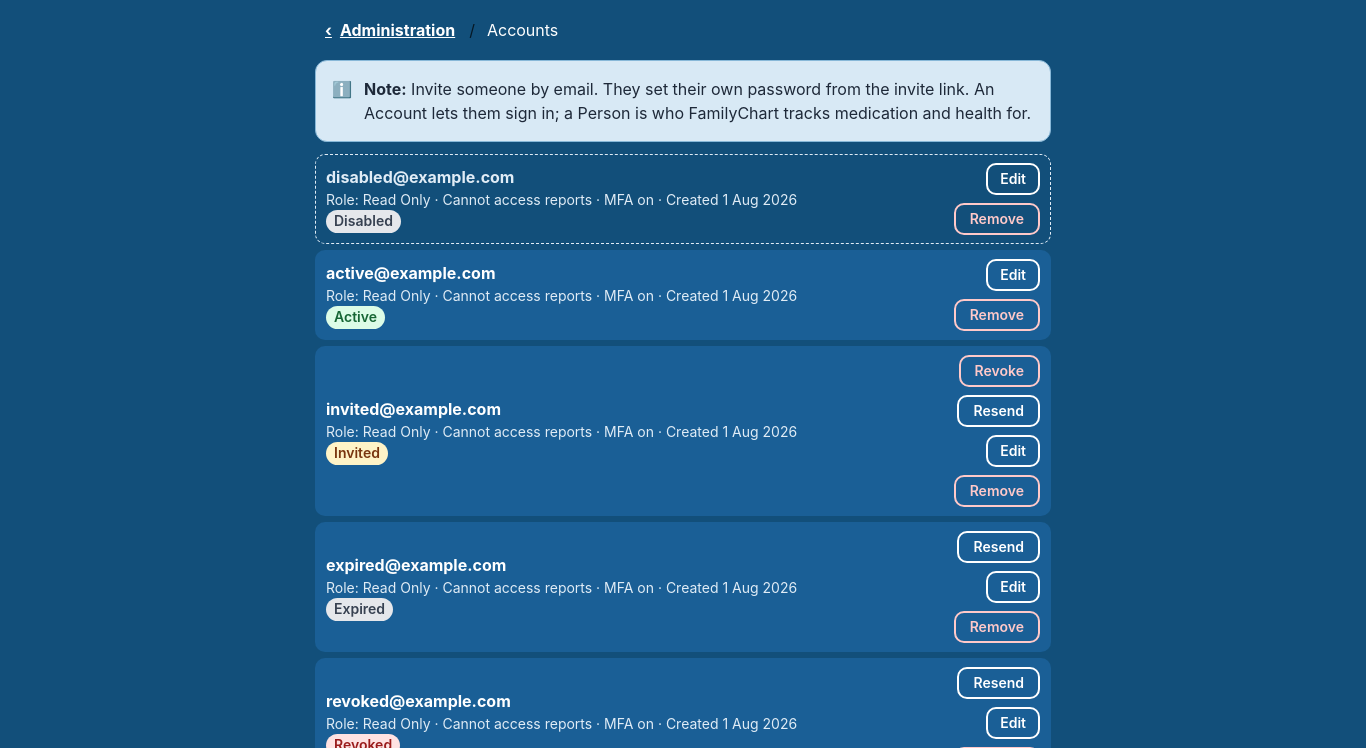
Edit Account › offers a Sign-in enabled switch with helper text for a local account
expect the text "disabled@example.com" is shown: met, box x1=326 y1=167 x2=514 y2=187
Click the button "Edit" in the row of "disabled@" at (1013, 179), box x1=986 y1=163 x2=1040 y2=195
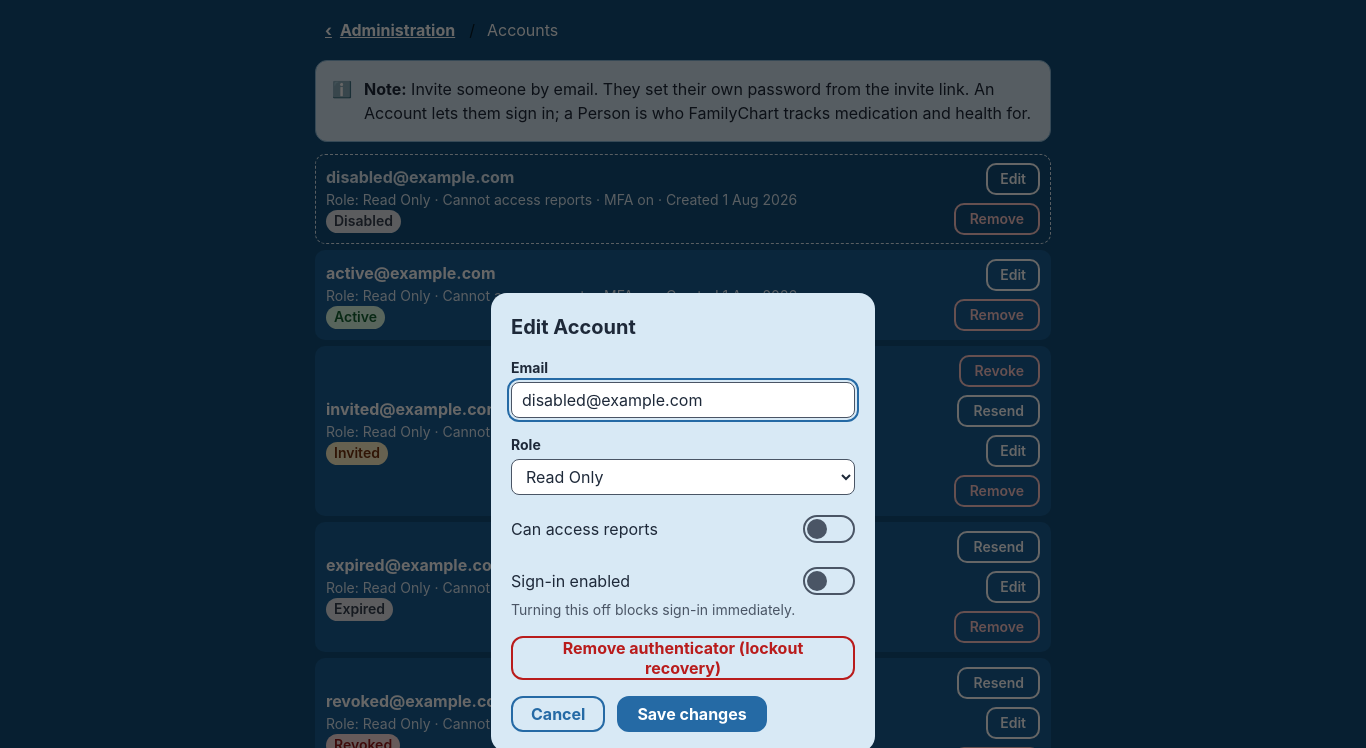
expect the heading "Edit Account" is shown: met, box x1=511 y1=315 x2=636 y2=339
expect the text "Turning this off blocks sign-in immediately." is shown: met, box x1=511 y1=601 x2=795 y2=618
